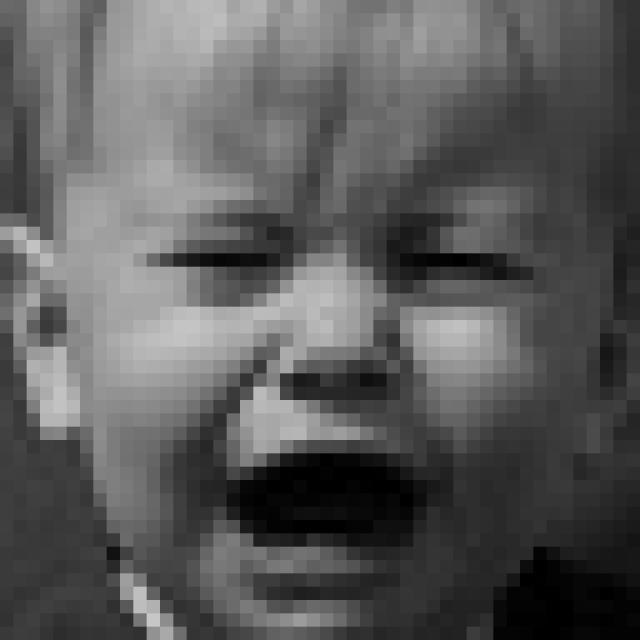sad: (130, 165, 556, 614)
